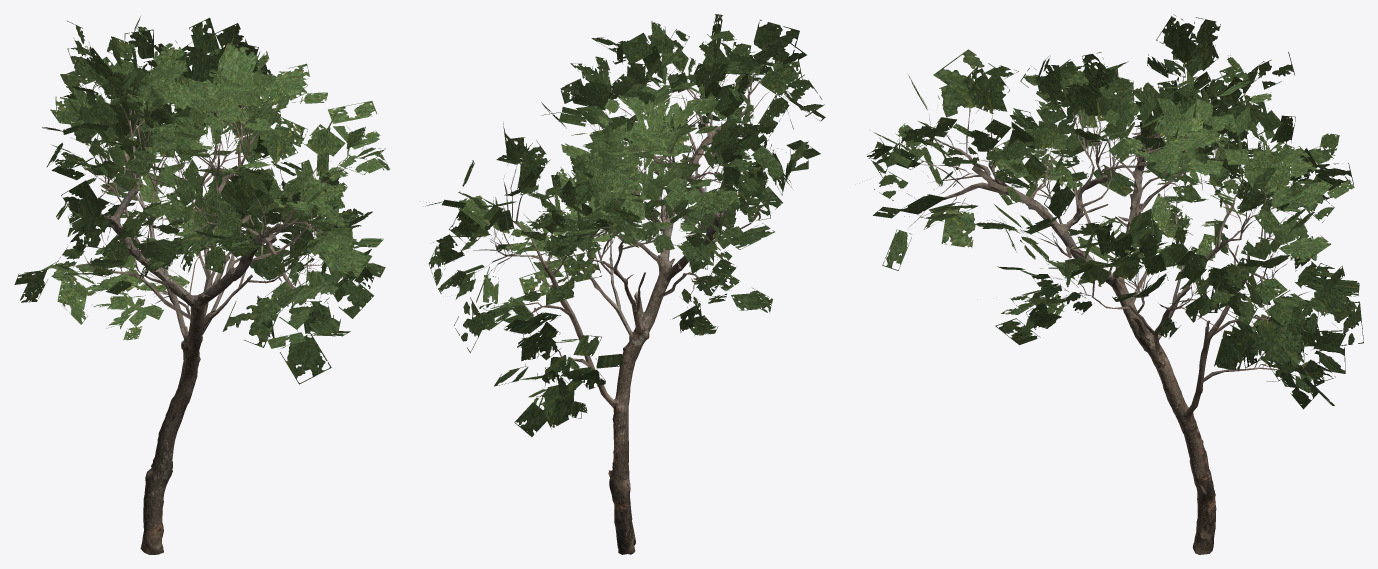
The model's file is tree-small-broadleaf.glb.
3 views of the same model, side by side, from view 1: azimuth 30°, elevation 25°; view 2: azimuth 150°, elevation 25°; view 3: azimuth 270°, elevation 25° (orthographic). The views are drawn at different scales.
Visible parts, largest first — view 1: tree-small-broadleaf_LOD0; view 2: tree-small-broadleaf_LOD0; view 3: tree-small-broadleaf_LOD0.
Part boxes in pixels (x1,y1,x2,y2): tree-small-broadleaf_LOD0: (14,16,390,554); tree-small-broadleaf_LOD0: (425,14,825,554); tree-small-broadleaf_LOD0: (862,14,1363,554).
Size of what is drawn, in the model's own units: 2.95 by 4.56 by 4.23.
3 materials, 3 textured.
